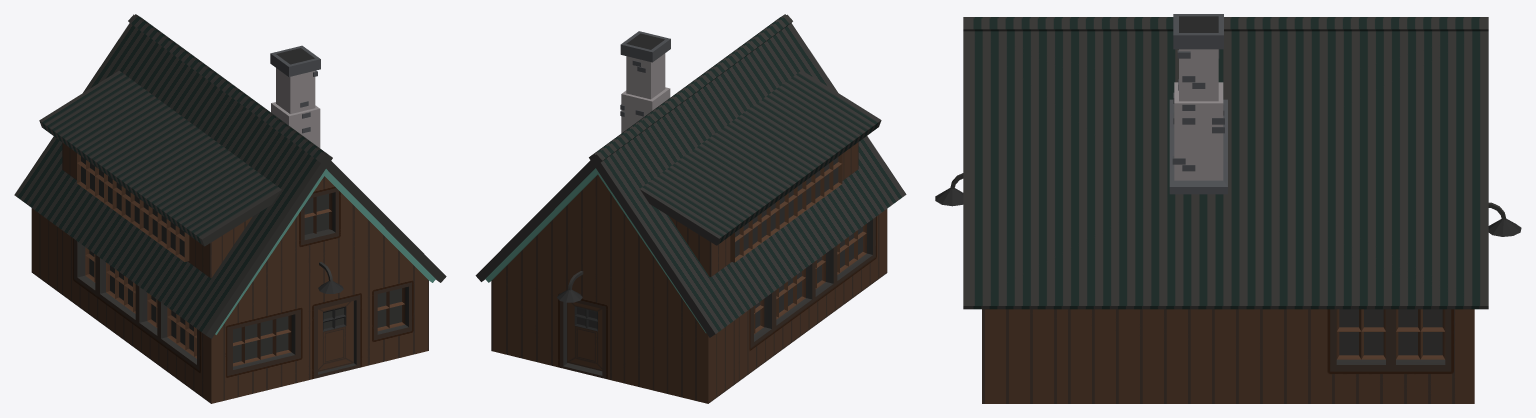
Rendered from Cabin.glb.
3 views of the same model, side by side, from view 1: azimuth 30°, elevation 25°; view 2: azimuth 150°, elevation 25°; view 3: azimuth 270°, elevation 25° (orthographic). The views are drawn at different scales.
Parts seen in each view (by area): view 1: Cabin, Door_1; view 2: Cabin, Door_2; view 3: Cabin.
Part boxes in pixels (<box>): Cabin: <box>14,14,446,403</box>; Door_1: <box>318,301,353,371</box>; Cabin: <box>475,14,906,403</box>; Door_2: <box>567,302,602,371</box>; Cabin: <box>935,14,1521,403</box>.
Size of the model in its own units: 774 by 768 by 1189.
1 material, 1 textured.
